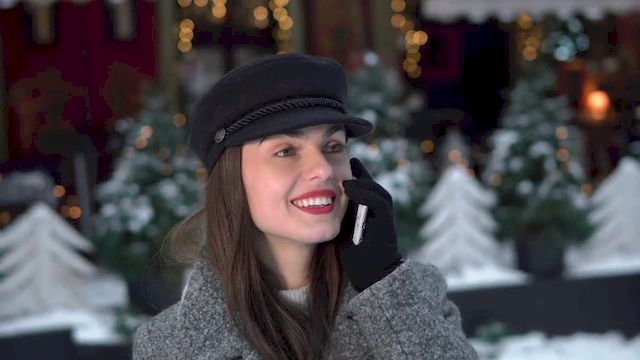phone: (342, 160, 382, 252)
talk: (248, 123, 391, 257)
